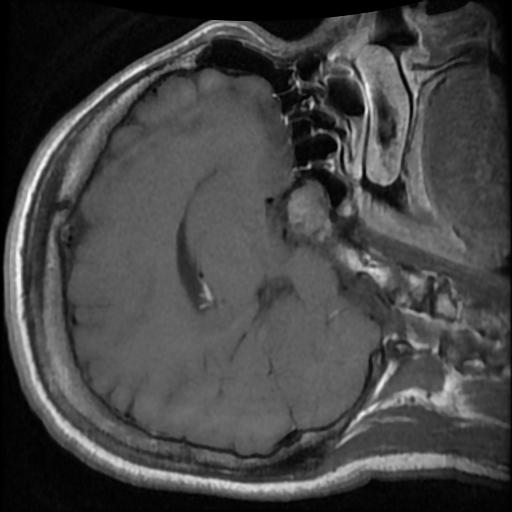pituitary tumour: (287, 181, 331, 239)
